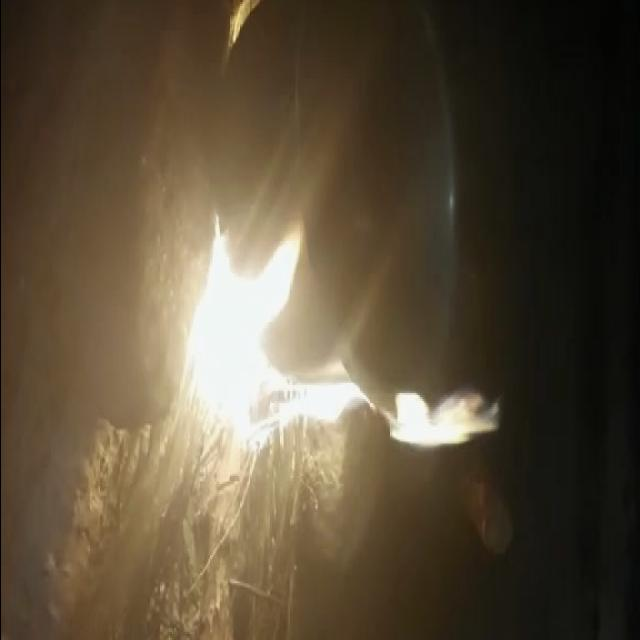firerotation: (175, 210, 504, 492)
